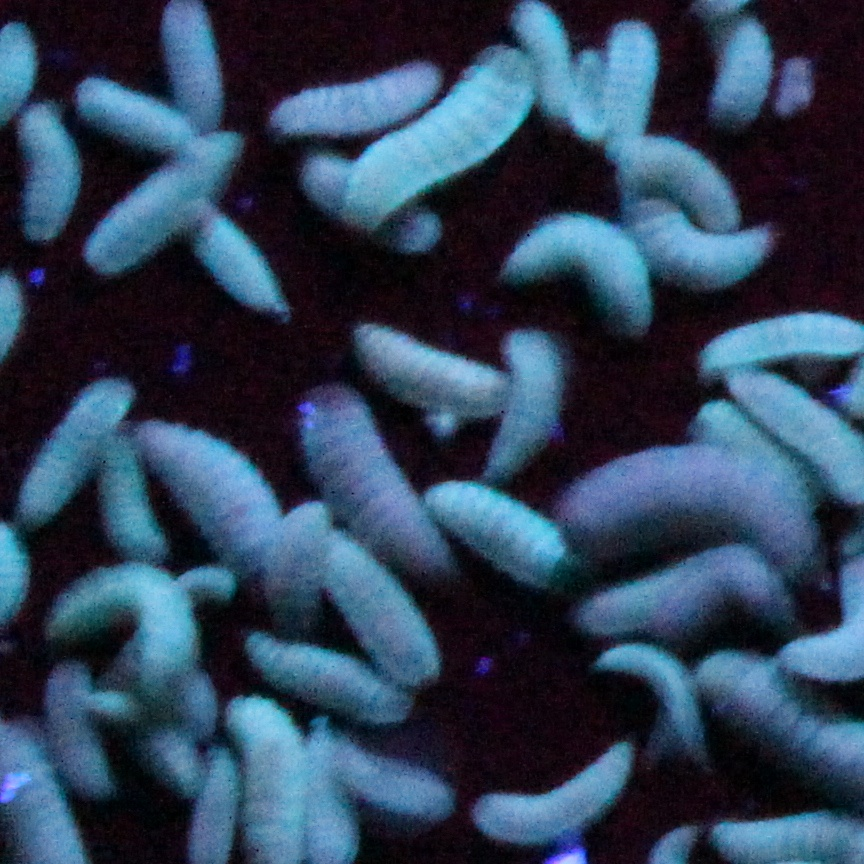larve: (344, 32, 547, 227), (553, 452, 813, 562), (86, 116, 258, 274), (487, 203, 662, 349), (466, 716, 638, 852), (298, 525, 439, 687), (130, 423, 281, 570), (239, 622, 419, 730), (578, 558, 802, 640), (43, 566, 200, 682), (427, 474, 578, 585), (20, 380, 133, 527), (349, 316, 511, 416), (267, 49, 442, 134), (638, 198, 771, 286), (621, 133, 742, 228), (498, 328, 575, 474), (187, 207, 289, 316), (598, 8, 670, 161), (6, 108, 82, 248), (72, 69, 188, 146)
